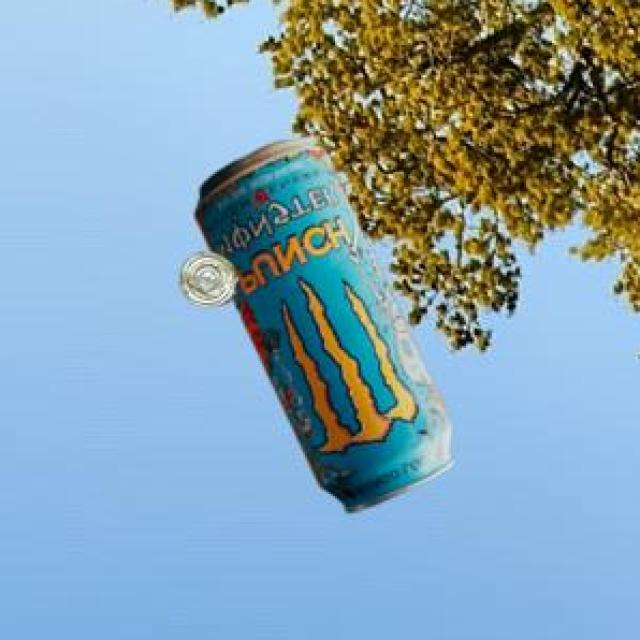logam: (192, 143, 450, 517), (177, 257, 233, 308)
